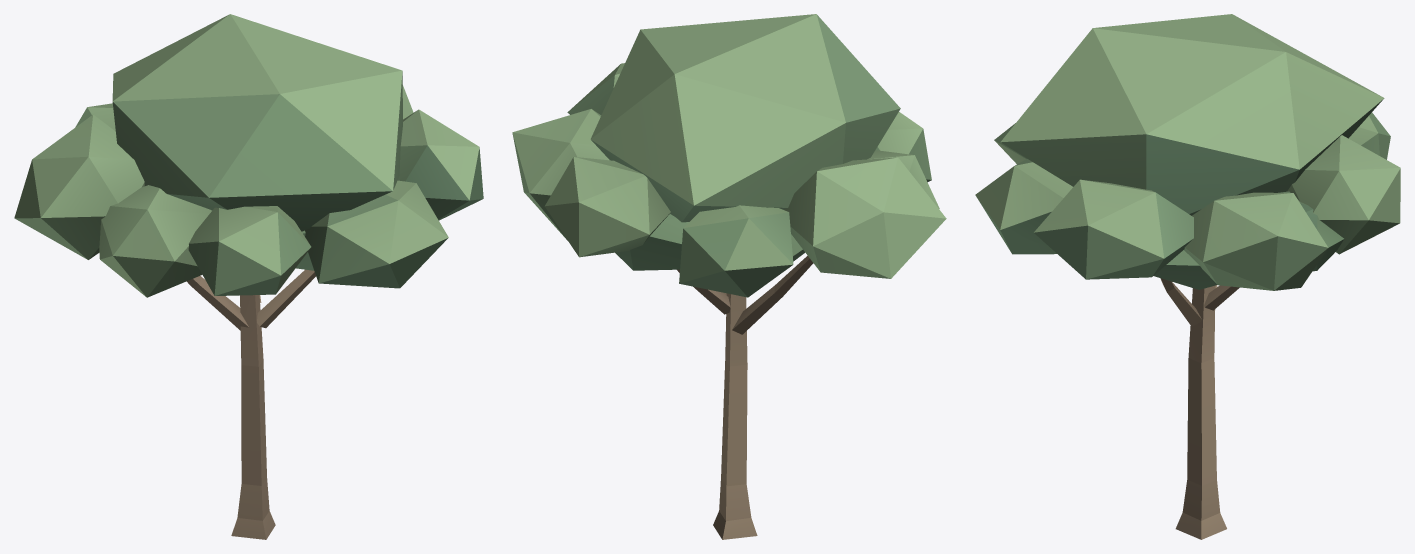
Rendered from tree.lod1.glb.
The picture shows the model from 3 angles, left to right: view 1: azimuth 30°, elevation 25°; view 2: azimuth 150°, elevation 25°; view 3: azimuth 270°, elevation 25°; orthographic projection.
Size of the model in its own units: 7.16 by 8.3 by 6.57.
